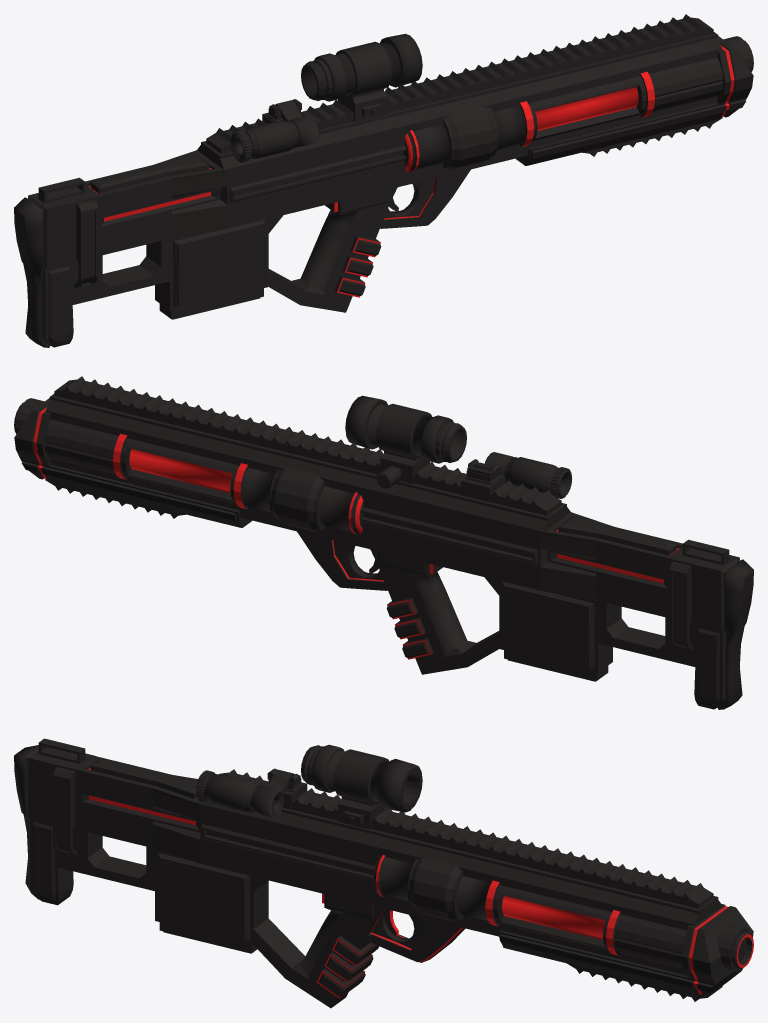
Rendered from AssaultRiffle.glb.
The picture shows the model from 3 angles, top to bottom: view 1: azimuth 30°, elevation 25°; view 2: azimuth 150°, elevation 25°; view 3: azimuth 330°, elevation 25°; orthographic projection.
Visible parts, largest first — view 1: AssaultRiflle; view 2: AssaultRiflle; view 3: AssaultRiflle.
Part boxes in pixels (x1,y1,x2,y2): AssaultRiflle: (14,14,753,347); AssaultRiflle: (14,376,753,709); AssaultRiflle: (14,738,753,1008).
Size of the model in its own units: 0.8827 by 0.2964 by 0.1038.
Materials: 1 (1 with a texture image).
